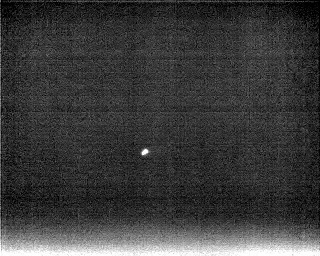BIRD: (139, 145, 152, 159)
